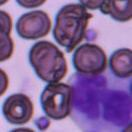M: (68, 72, 132, 131)
